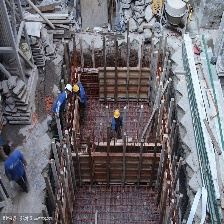helmet: (113, 108, 122, 125), (72, 83, 81, 96)
no-vest: (3, 156, 27, 186)
person: (1, 142, 33, 197), (51, 83, 72, 132), (110, 106, 123, 141), (73, 79, 87, 106)
